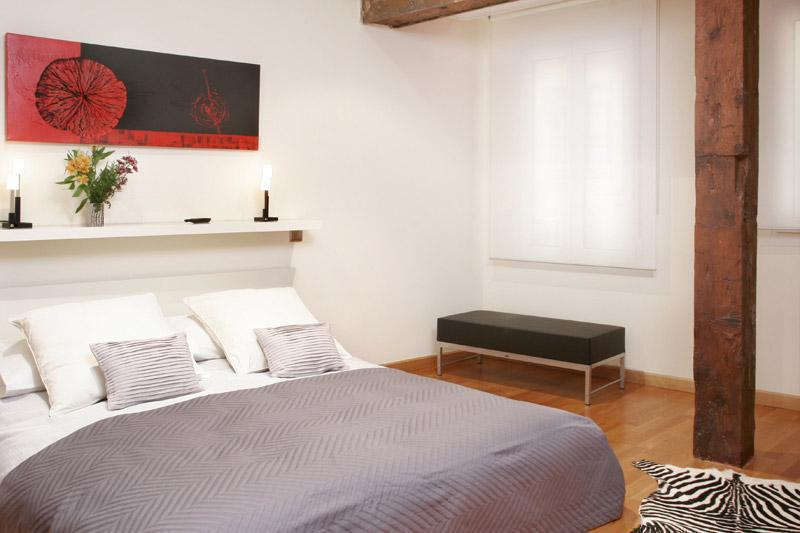Cama: (6, 295, 624, 527)
Ventana: (493, 24, 659, 266)
